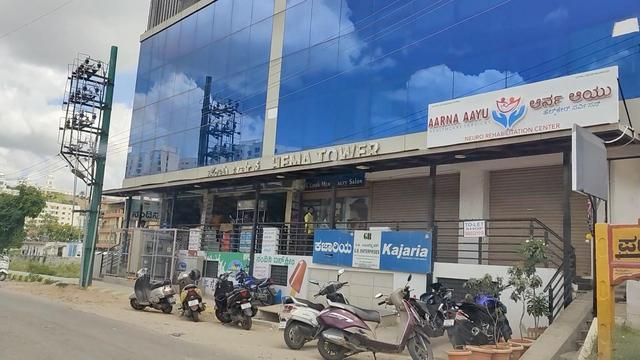LMV: (283, 280, 422, 360), (195, 265, 259, 354), (166, 259, 216, 329), (129, 267, 168, 314)
